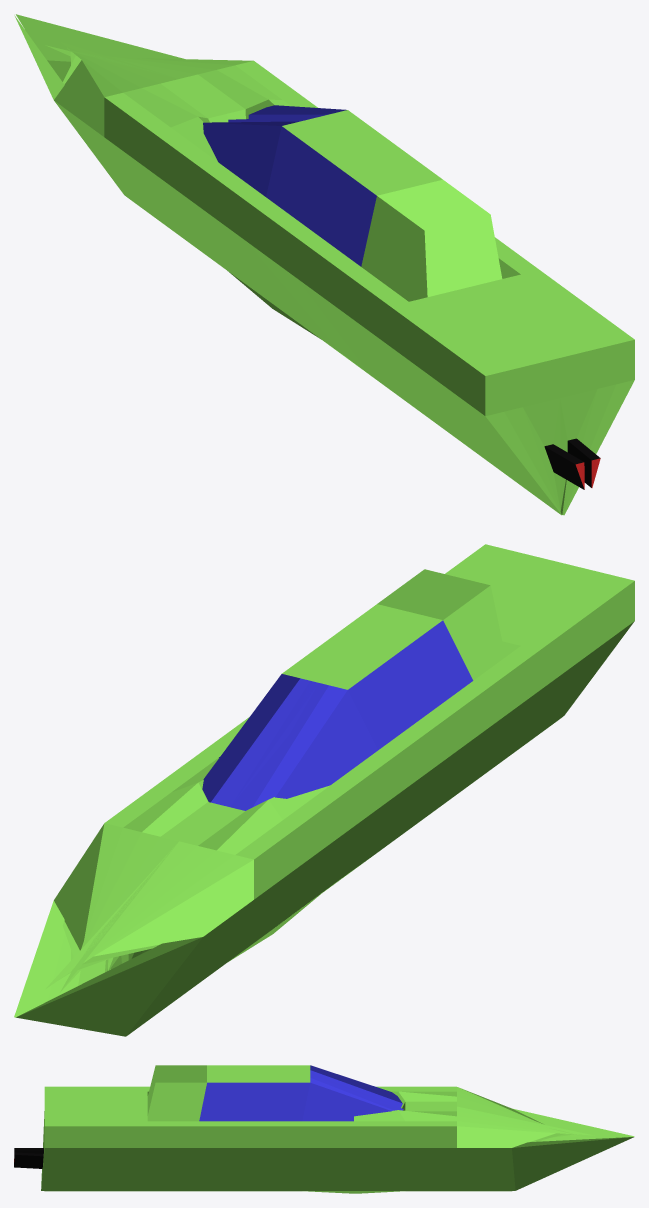
The model's file is Statek.fbx.
3 views of the same model, one above another, from view 1: azimuth 30°, elevation 25°; view 2: azimuth 150°, elevation 25°; view 3: azimuth 270°, elevation 25° (orthographic). The views are drawn at different scales.
Parts seen in each view (by area): view 1: Cube; view 2: Cube; view 3: Cube.
Part boxes in pixels (x1,y1,x2,y2): Cube: (14, 14, 634, 515); Cube: (14, 544, 634, 1036); Cube: (14, 1065, 634, 1193).
Bounding box in the file's own units: 200 × 283 × 1329.
